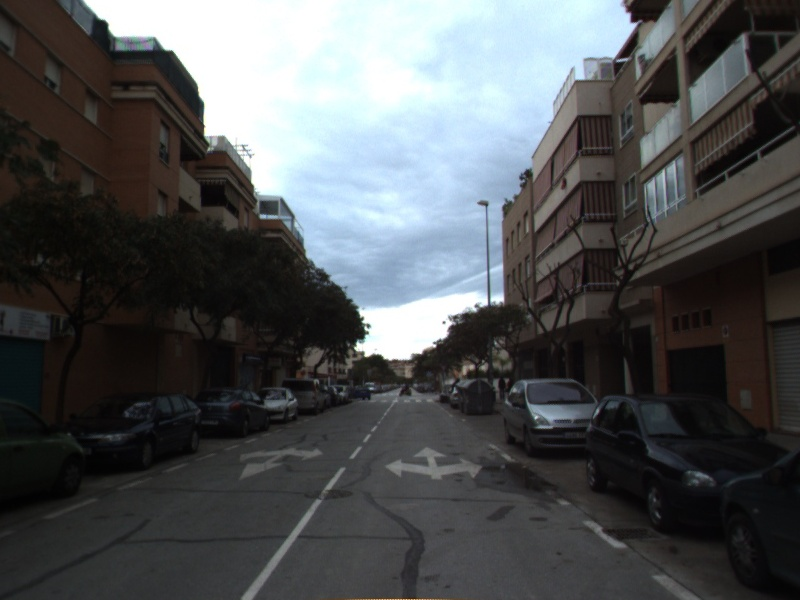STRAIGHT_LEFT_RIGHT: (383, 444, 485, 481)
